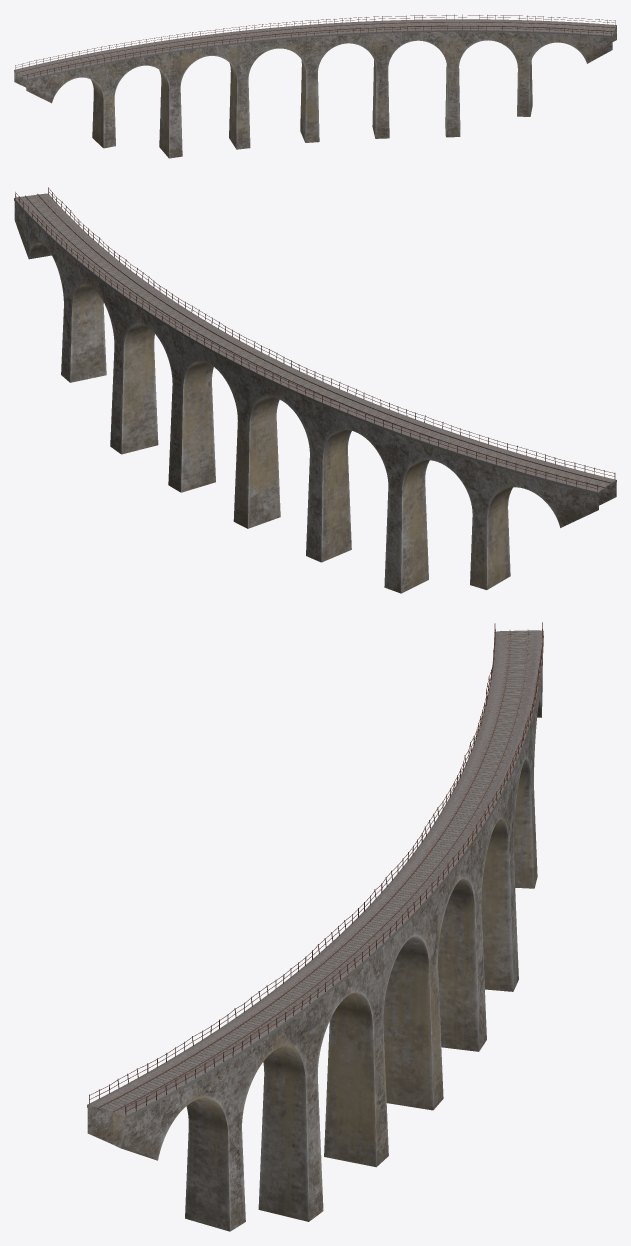
File: bridge.glb
3 views of the same model, one above another, from view 1: azimuth 30°, elevation 25°; view 2: azimuth 150°, elevation 25°; view 3: azimuth 270°, elevation 25° (orthographic). The views are drawn at different scales.
Parts seen in each view (by area): view 1: StoneRailRoadBridge_0; view 2: StoneRailRoadBridge_0; view 3: StoneRailRoadBridge_0.
Boxes of the visible parts, bbox=[...] form: StoneRailRoadBridge_0: bbox=[14, 14, 616, 158]; StoneRailRoadBridge_0: bbox=[14, 187, 616, 593]; StoneRailRoadBridge_0: bbox=[87, 622, 543, 1231].
Size of the model in its own units: 96.99 by 20.7 by 38.52.
Materials: 1 (1 with a texture image).
